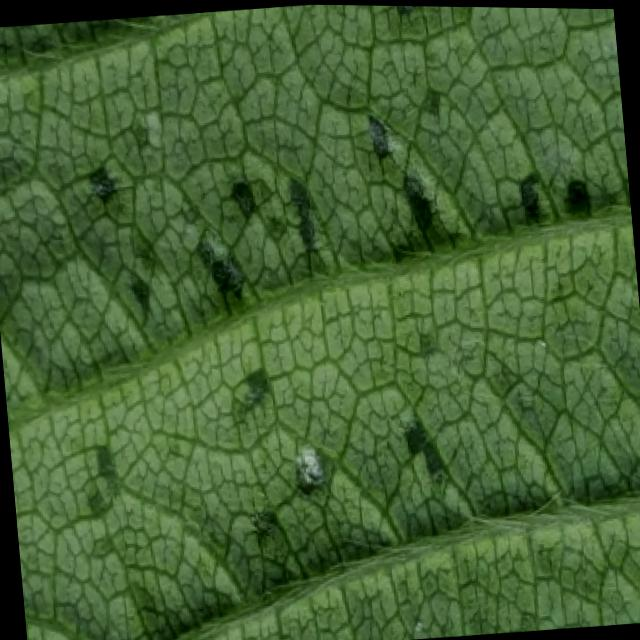Angular Leafspot: (0, 4, 620, 640)
